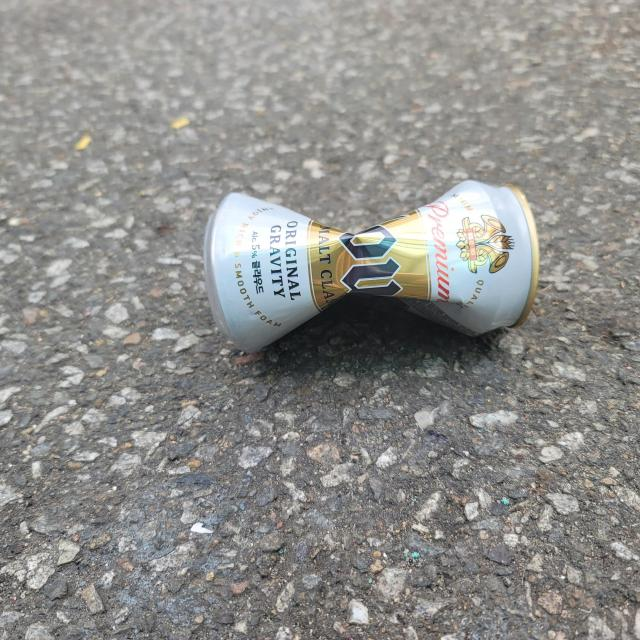can: (204, 180, 540, 353)
